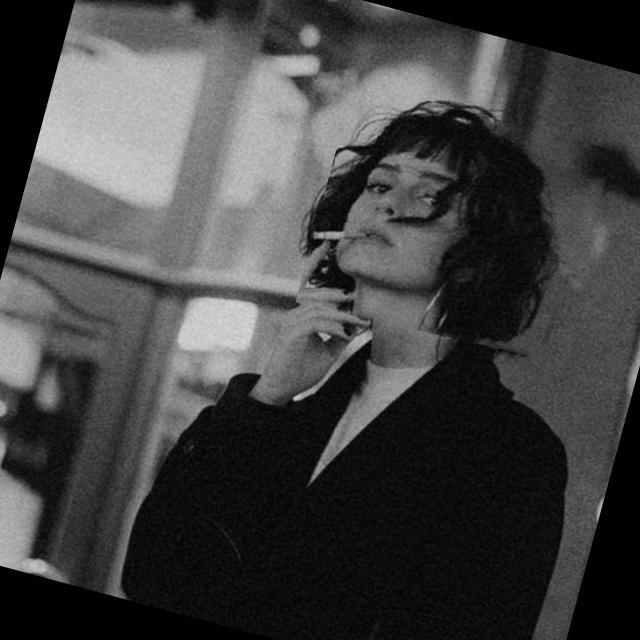cigarette: (308, 218, 388, 266)
